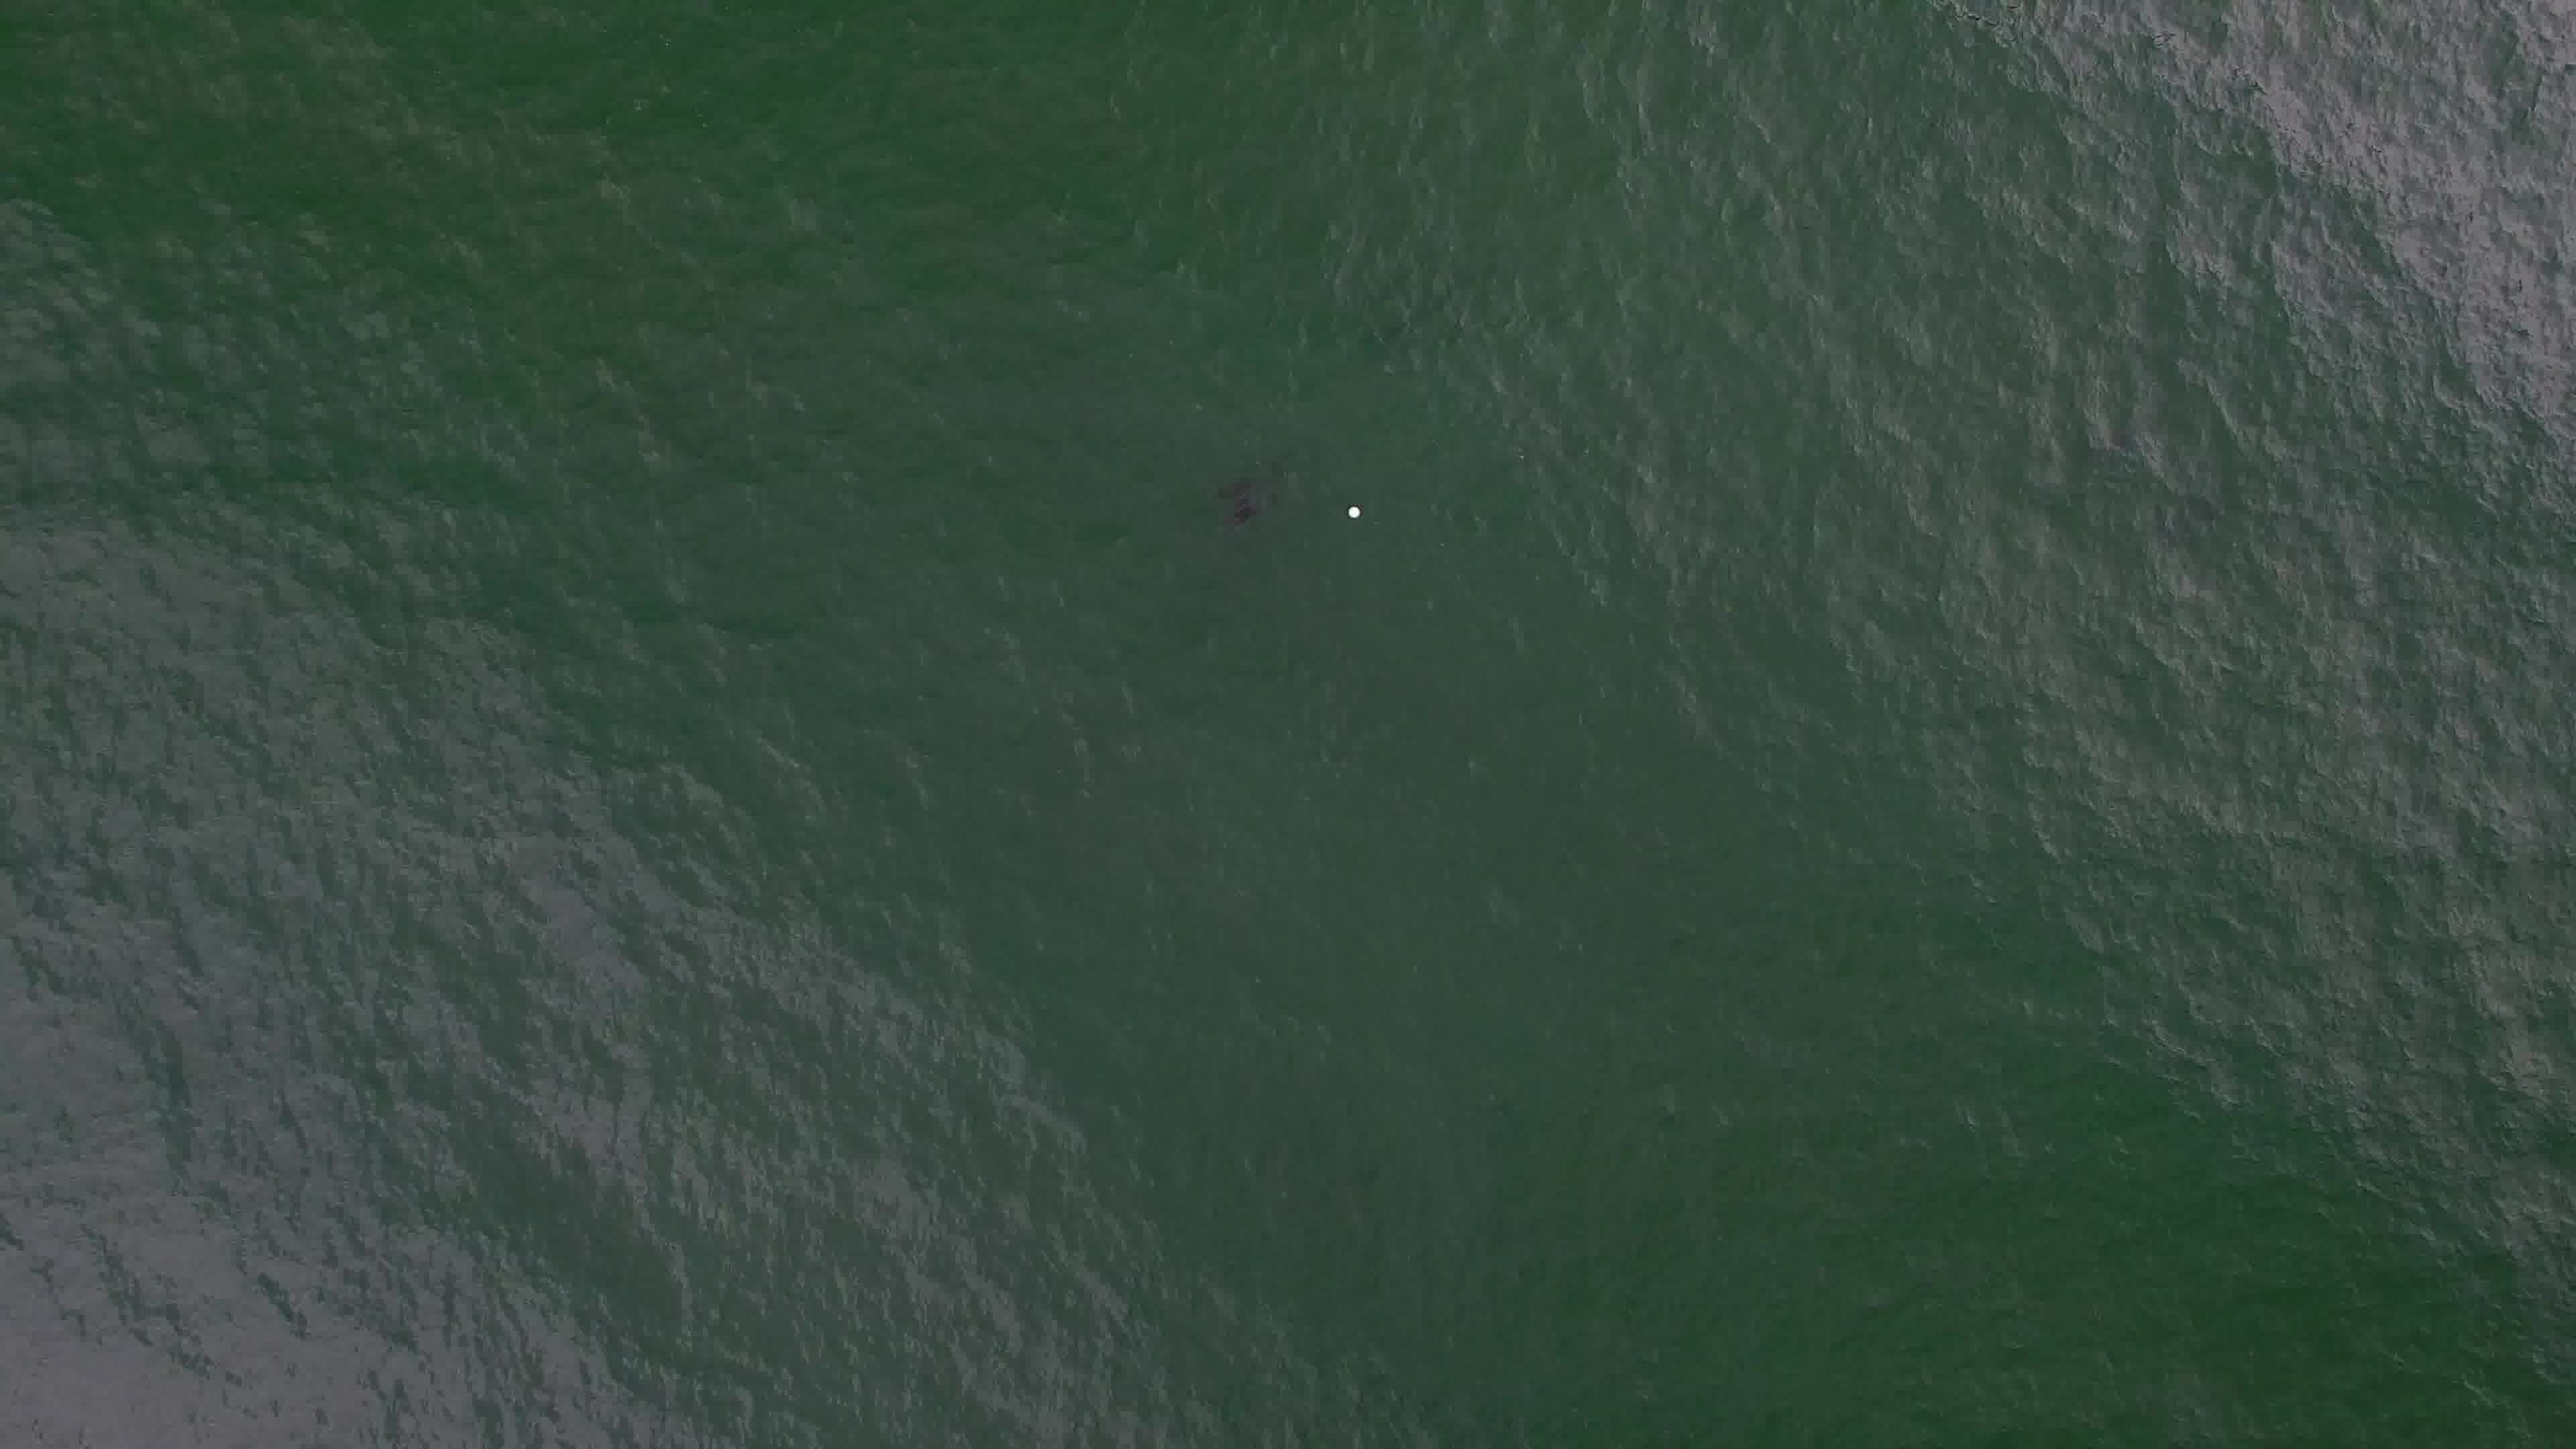dolphin: (1210, 472, 1284, 524)
